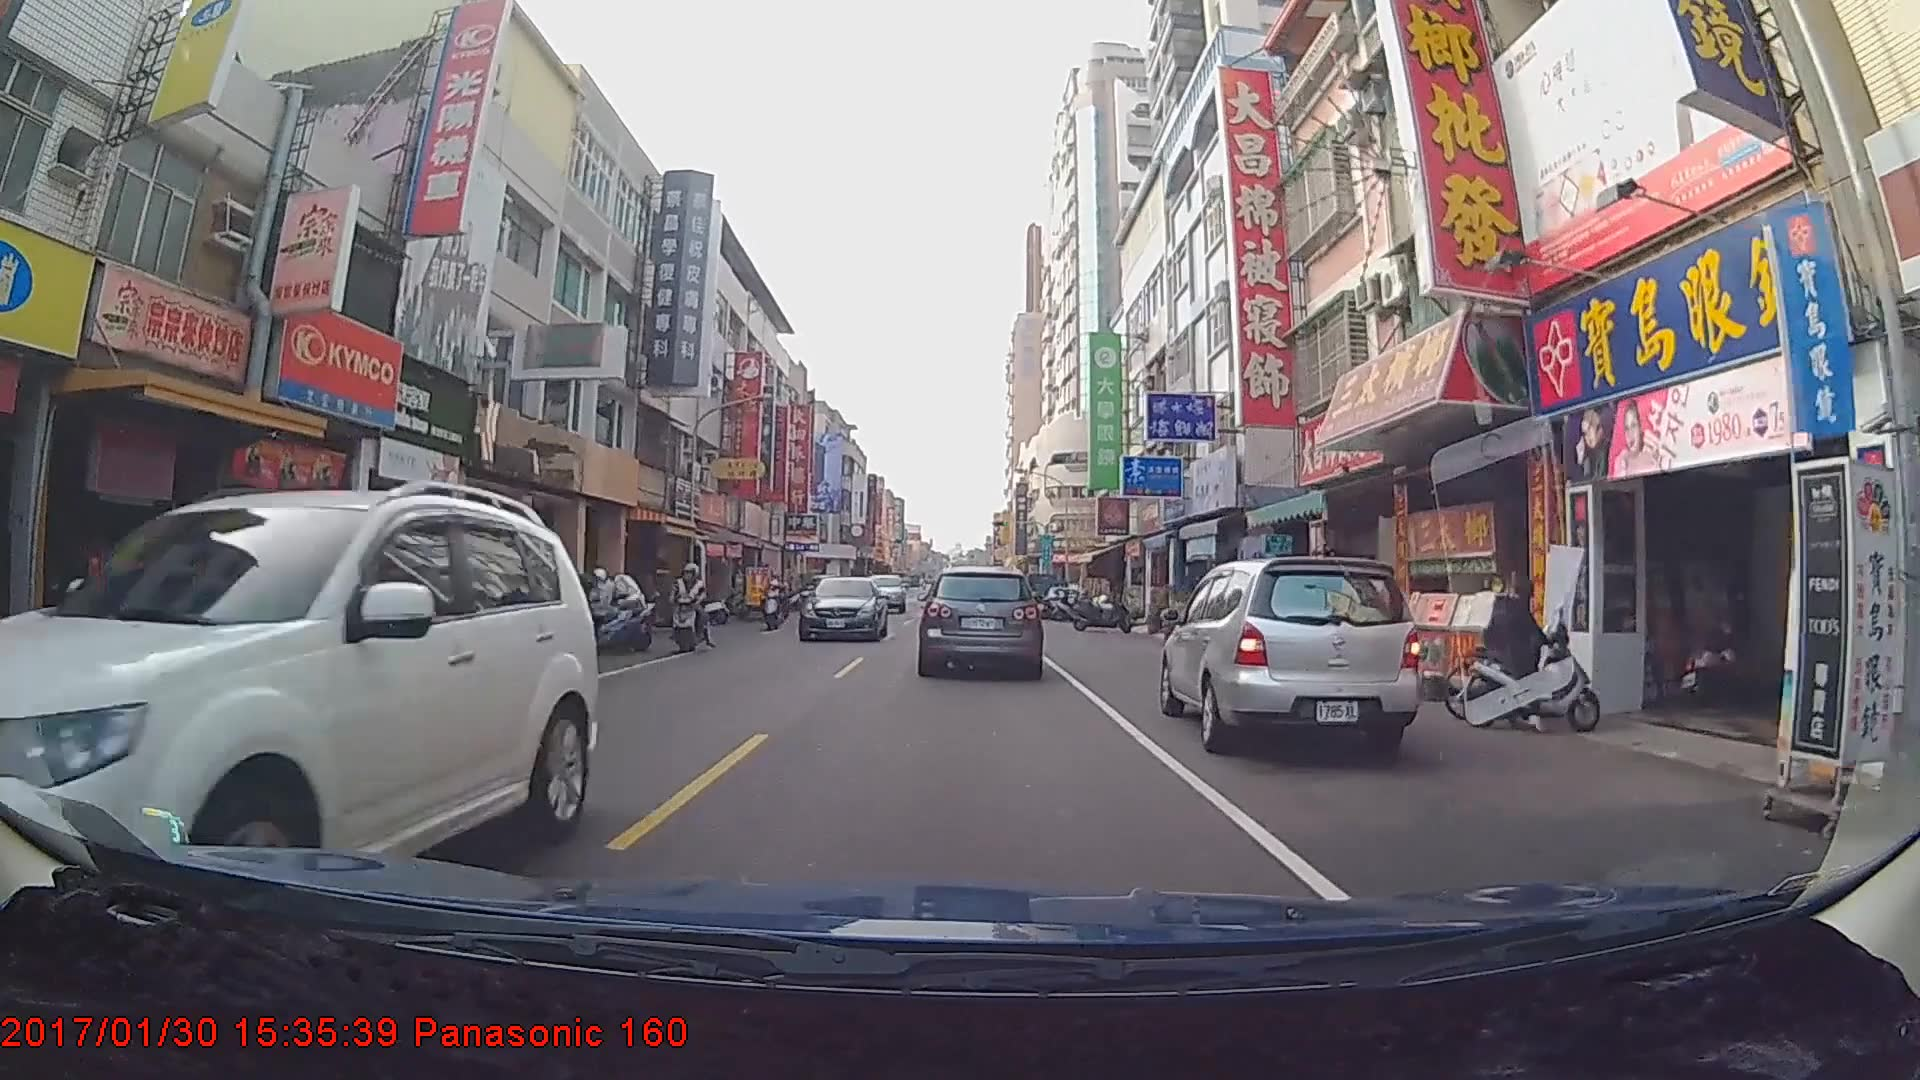rider: (1459, 574, 1612, 744), (660, 559, 721, 653), (757, 576, 786, 629)
vehicle: (0, 481, 597, 953), (1157, 559, 1417, 754), (919, 565, 1040, 675), (796, 576, 890, 643), (858, 572, 905, 612)
